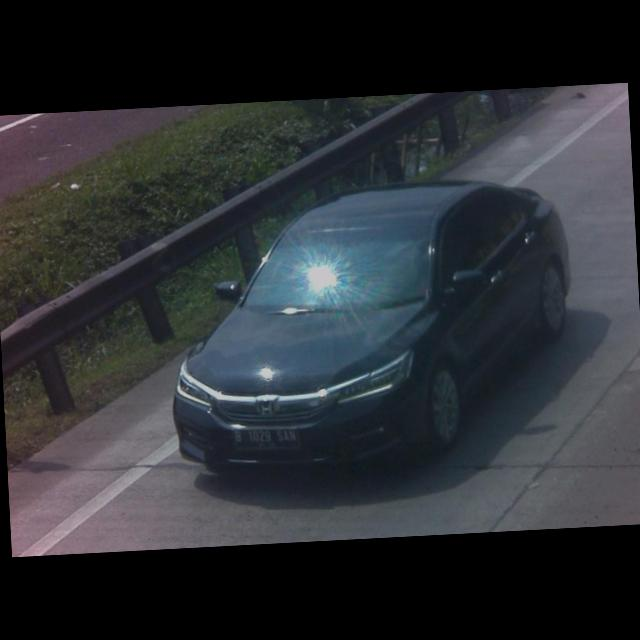plate: (232, 425, 301, 452)
